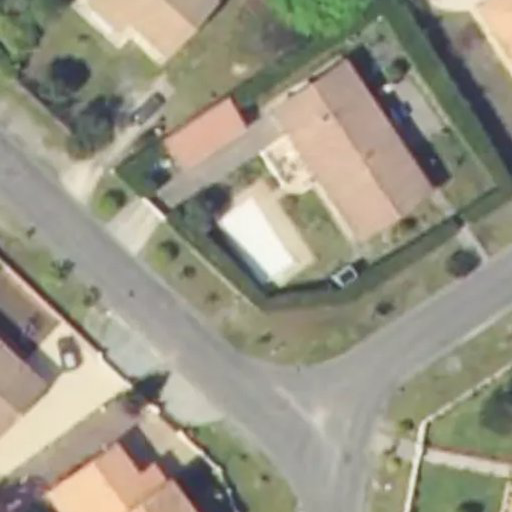pool: (218, 220, 294, 263)
